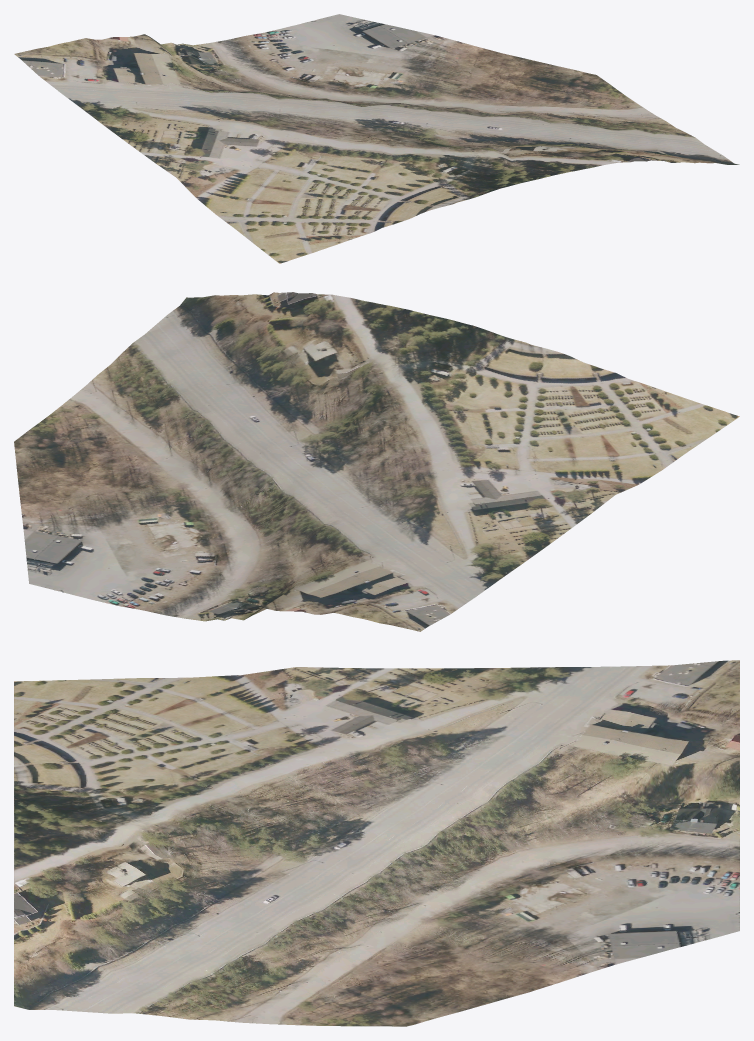
File: CM_Terrain_24492097_6819180.fbx
3 views of the same model, one above another, from view 1: azimuth 30°, elevation 25°; view 2: azimuth 150°, elevation 25°; view 3: azimuth 270°, elevation 25° (orthographic). The views are drawn at different scales.
Visible parts, largest first — view 1: CM_Terrain_24492097_6819180_LOD0; view 2: CM_Terrain_24492097_6819180_LOD0; view 3: CM_Terrain_24492097_6819180_LOD0.
Part boxes in pixels (bbox=[...]): CM_Terrain_24492097_6819180_LOD0: bbox=[14, 14, 739, 263]; CM_Terrain_24492097_6819180_LOD0: bbox=[14, 292, 739, 631]; CM_Terrain_24492097_6819180_LOD0: bbox=[14, 660, 739, 1026].
Size of what is drawn, in the model's own units: 205 by 21.38 by 205.
